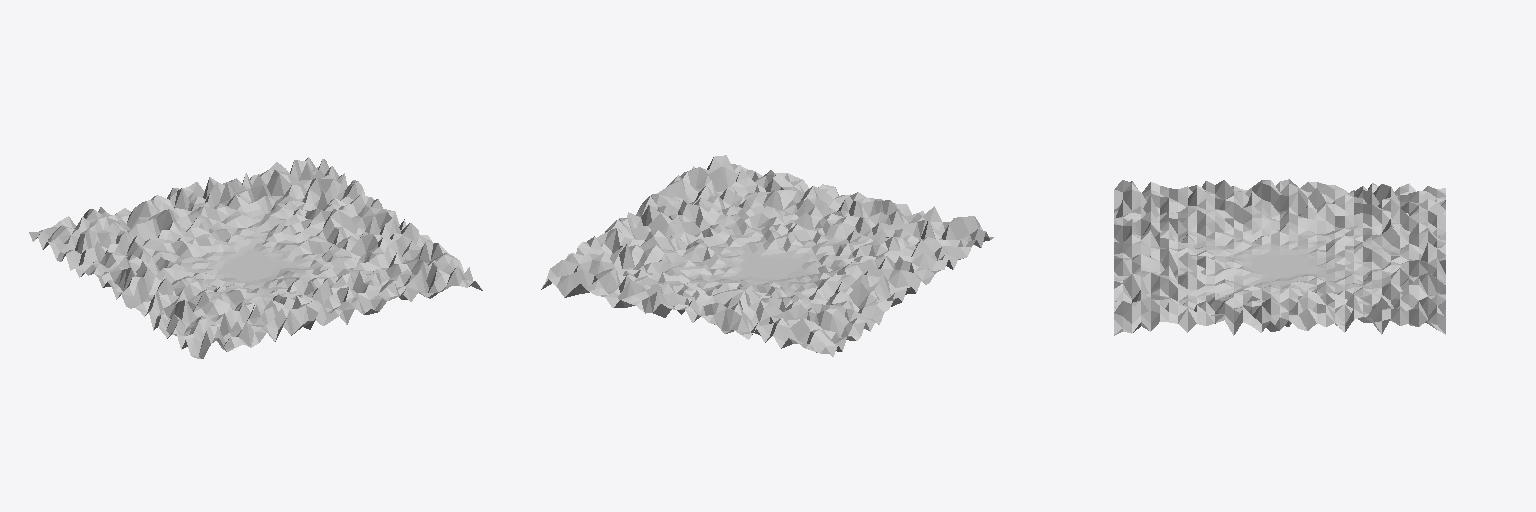
The model's file is sand.obj.
The picture shows the model from 3 angles: view 1: azimuth 30°, elevation 25°; view 2: azimuth 150°, elevation 25°; view 3: azimuth 270°, elevation 25°; orthographic projection.
Parts seen in each view (by area): view 1: sand_Плоскость.001; view 2: sand_Плоскость.001; view 3: sand_Плоскость.001.
Part boxes in pixels (left/top/right/bottom): sand_Плоскость.001: left=29, top=157, right=482, bottom=358; sand_Плоскость.001: left=541, top=155, right=993, bottom=356; sand_Плоскость.001: left=1114, top=179, right=1445, bottom=335.
Size of the model in its own units: 100 by 9.29 by 100.